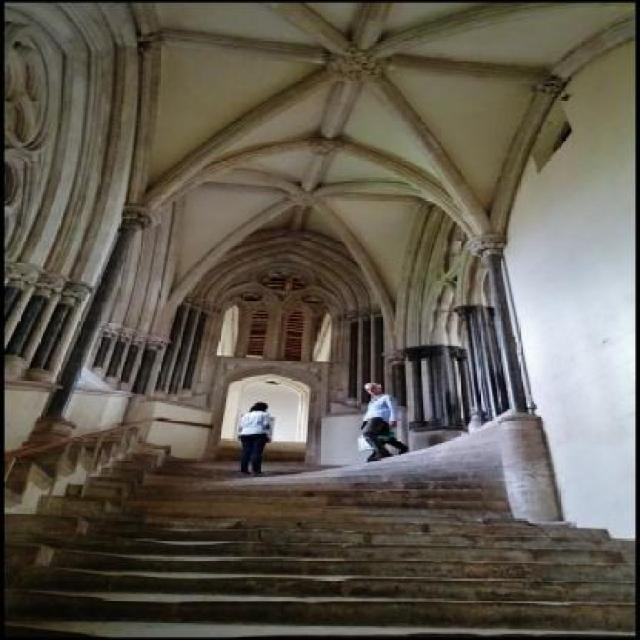stair: (0, 438, 638, 638)
